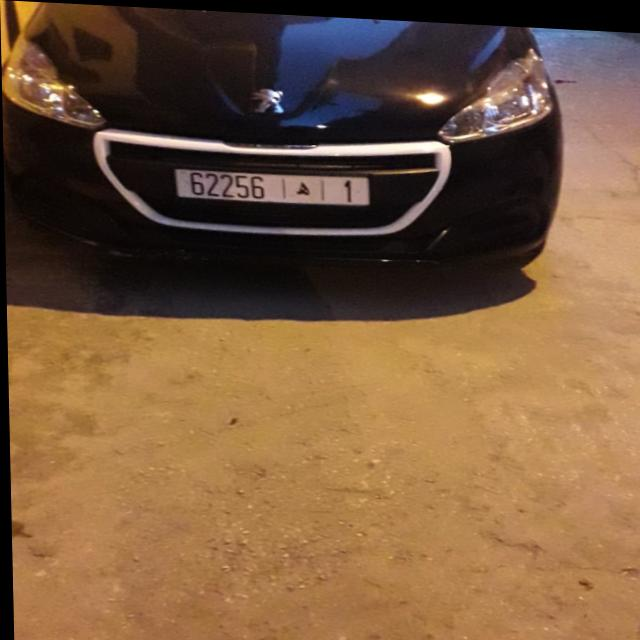License-Plate: (174, 168, 370, 202)
